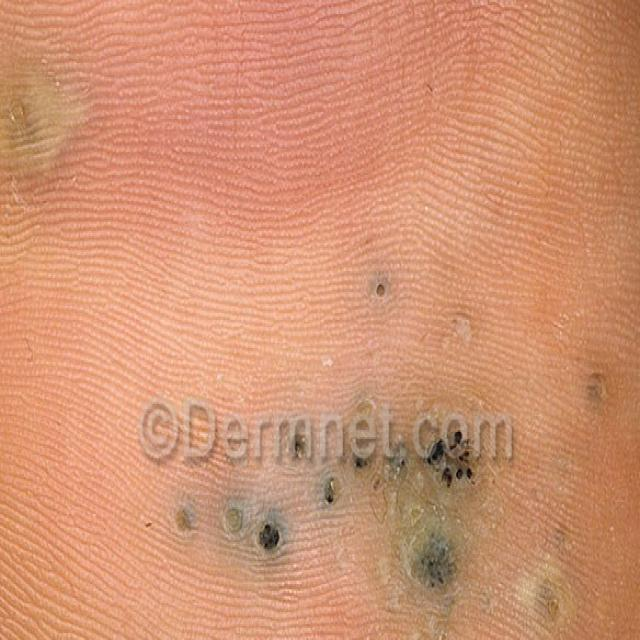Warts: (127, 341, 612, 640), (356, 239, 504, 342)
